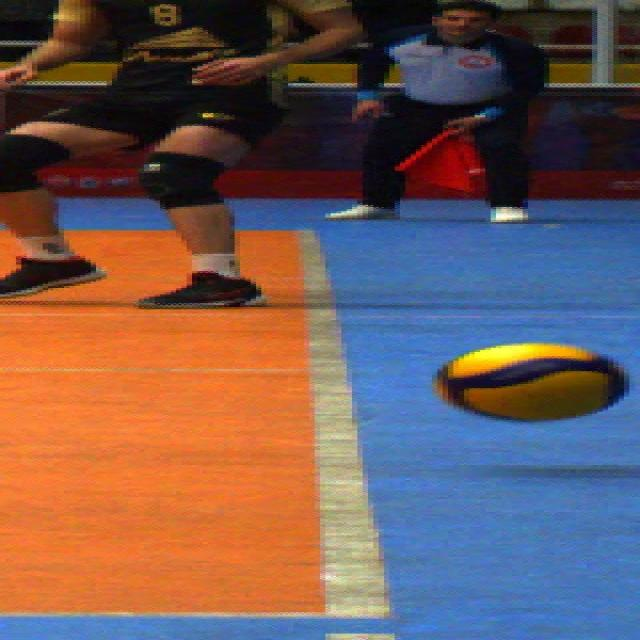Volleyball: (442, 342, 630, 422)
